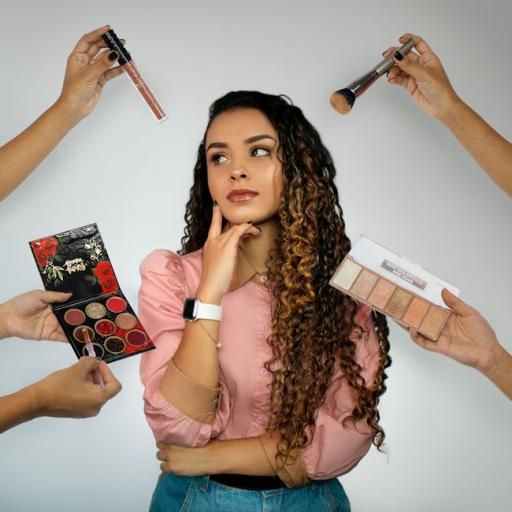lipstick: (102, 30, 167, 122), (331, 54, 393, 114), (82, 328, 96, 357)
